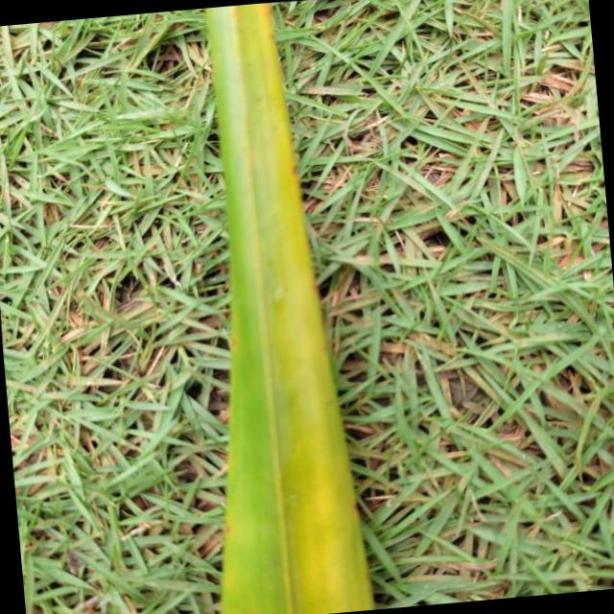nitrogen: (198, 0, 374, 614)
